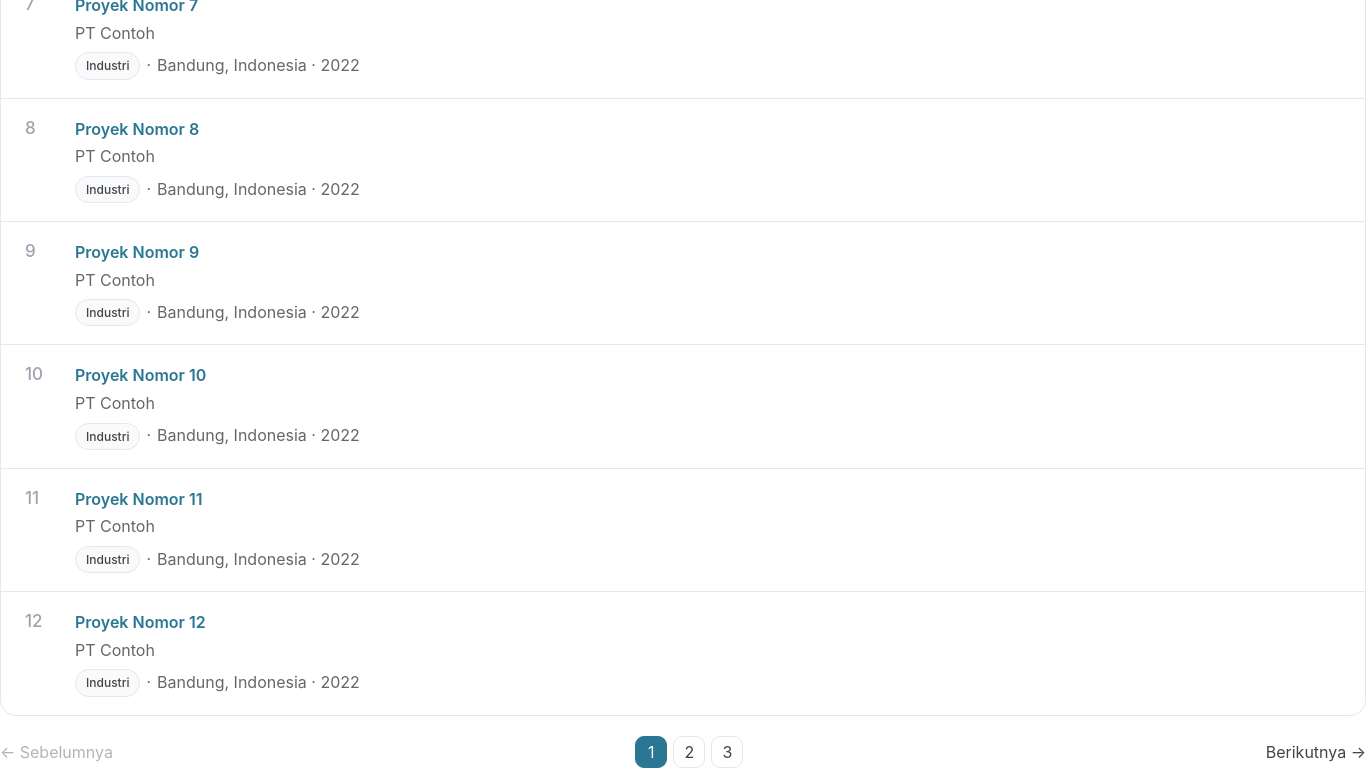
Scenario: ProjectDirectoryList — pagination › jumping to a specific page number works directly
(page scrolled)
Click the button "3" at (727,752), box [711,736,743,767]
(page scrolled)
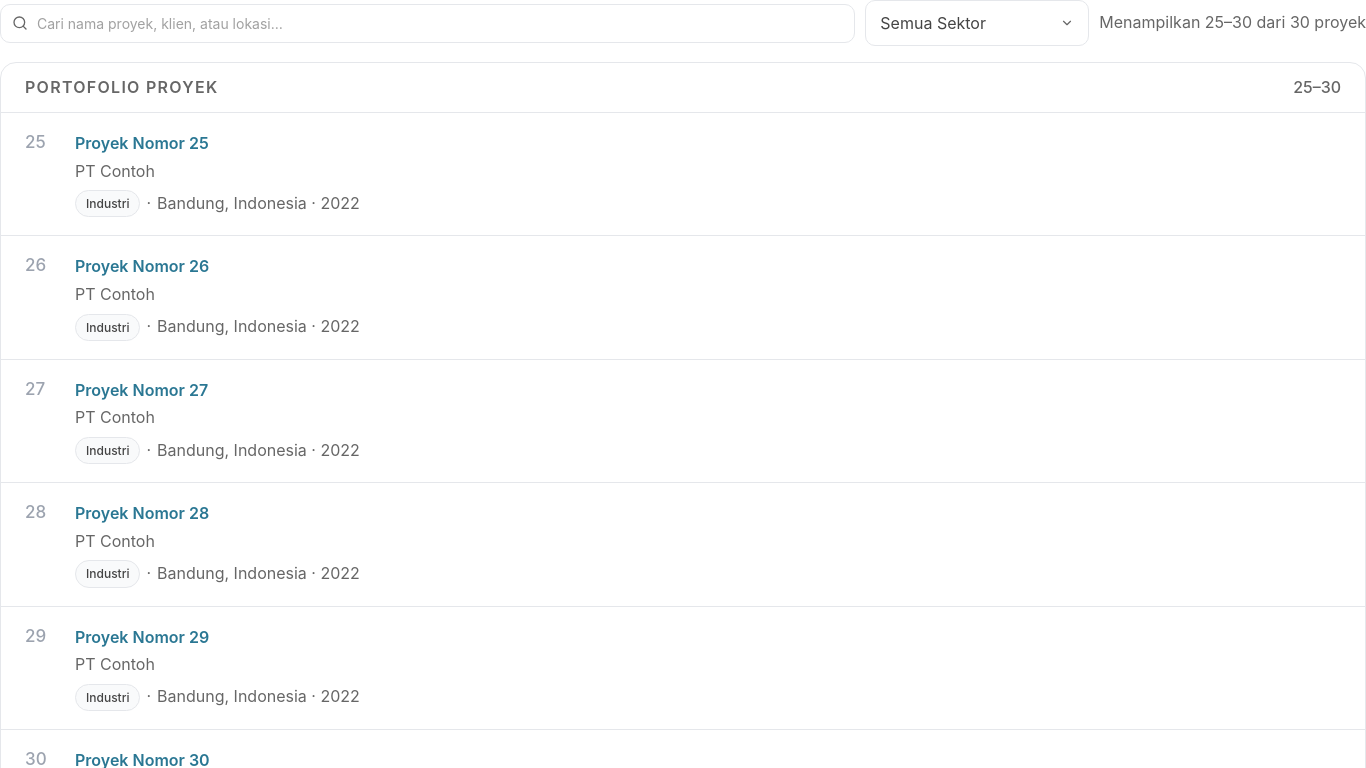
Now the text "Menampilkan 25–30 dari 30 proyek" is shown, box [1099,10,1365,36]
Now the text "Proyek Nomor 25" is shown, box [75,133,209,153]
